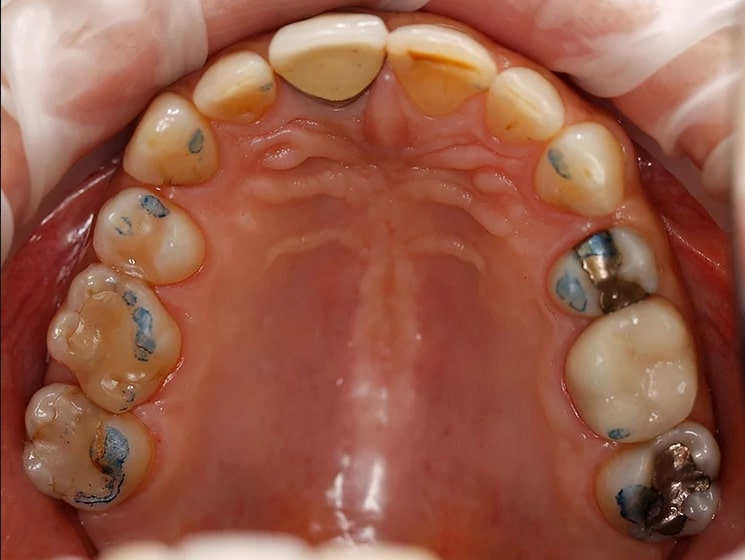UL1BC_decay: (539, 216, 662, 323)
UL1M_decay: (593, 418, 719, 545)
UL2BC_decay: (558, 292, 696, 450)
ULCI_decay: (387, 12, 494, 117)
ULC_decay: (534, 118, 629, 219)
ULLI_decay: (486, 60, 568, 144)
UR1BC_decay: (91, 187, 215, 283)
UR1M_decay: (21, 381, 156, 523)
UR2BC_decay: (44, 264, 194, 416)
URCI_decay: (273, 12, 388, 111)
URC_decay: (122, 92, 217, 184)
URLI_decay: (190, 56, 276, 135)
